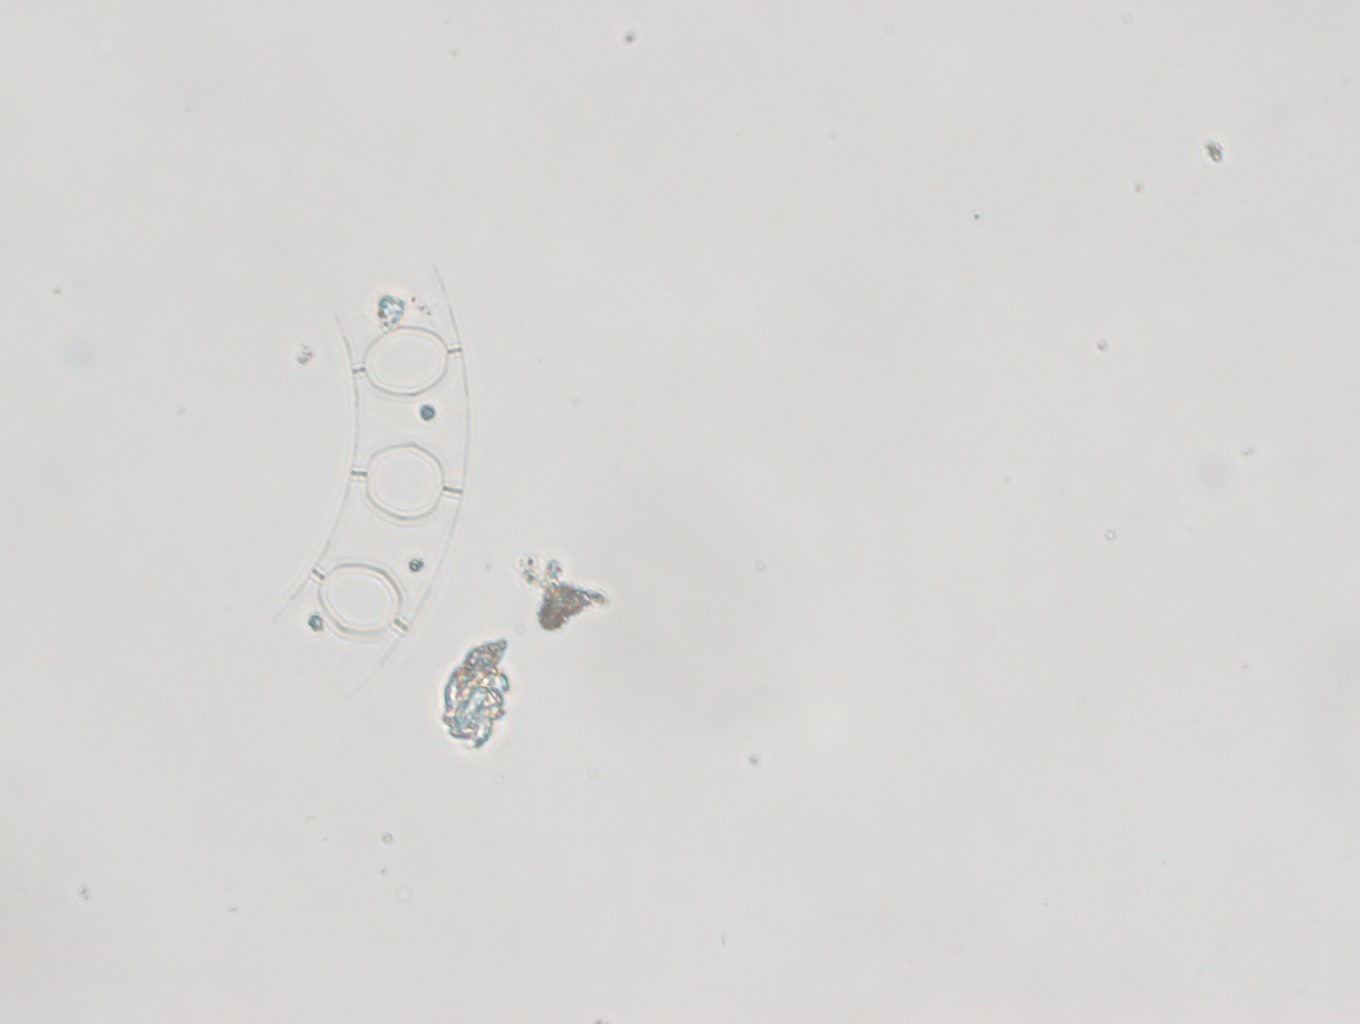eucampia: (270, 274, 476, 677)
